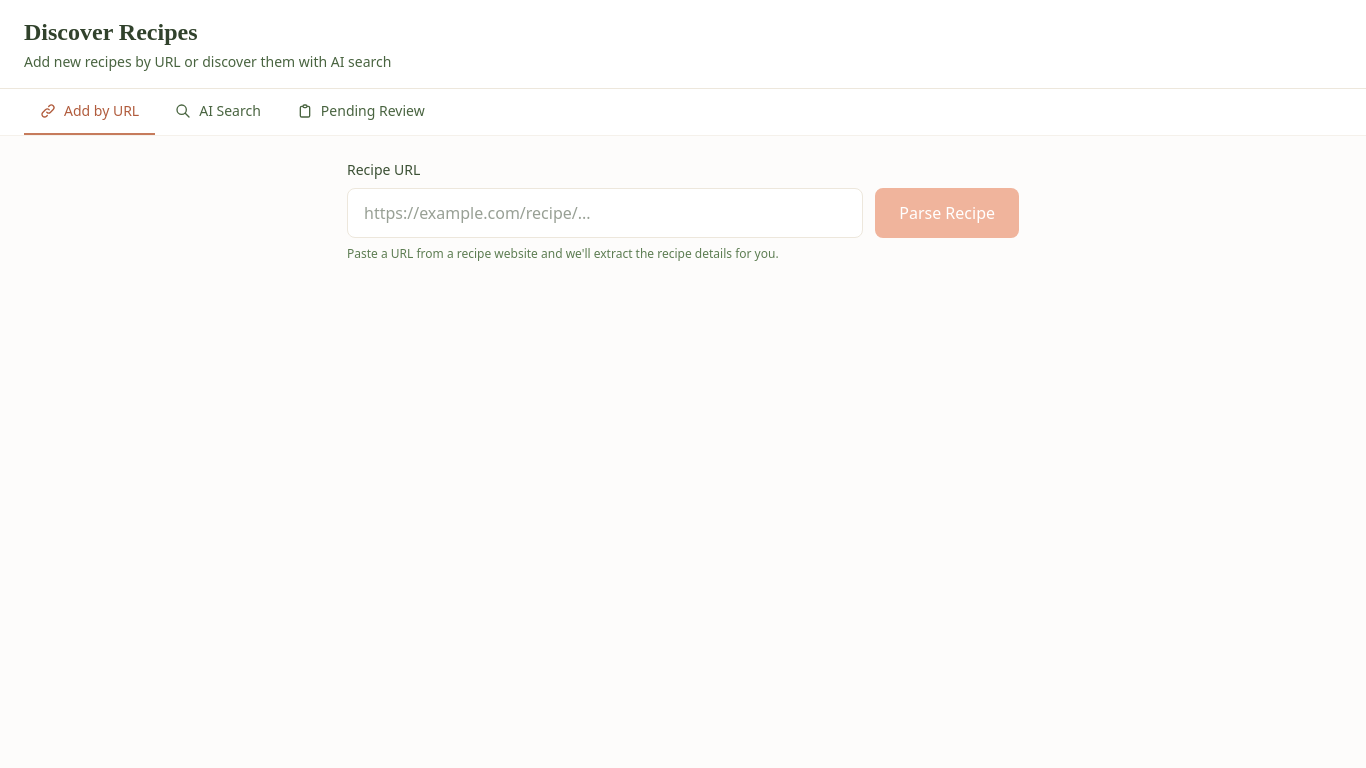
it: DiscoverPage › URL Parser › displays parsed recipe card
This screenshot has width=1366, height=768.
Type "https://example.com/recipe" into the field with placeholder "https://example.com/recipe/...".
click(605, 213); type("https://example.com/recipe")  # box [347,188,863,238]
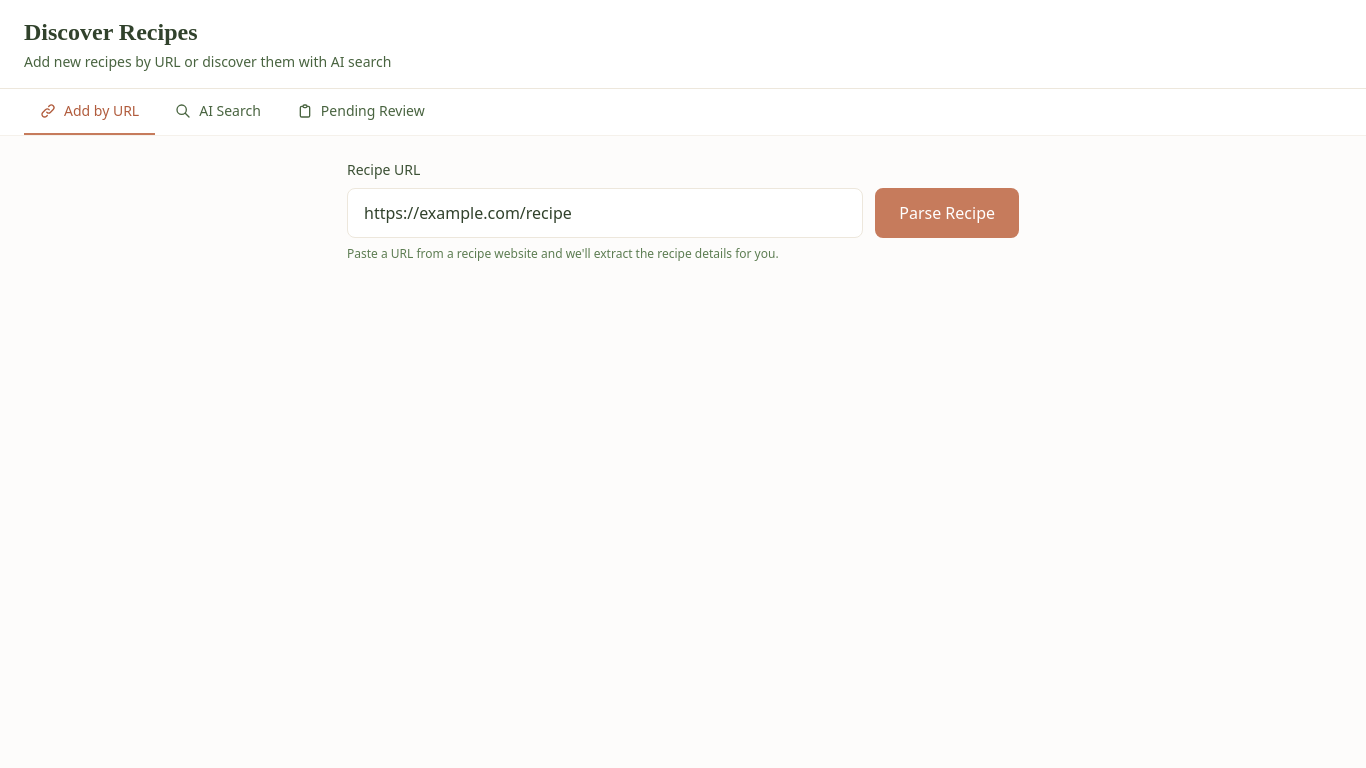
Click the button "Parse Recipe".
click(947, 213)  # box [875,188,1019,238]
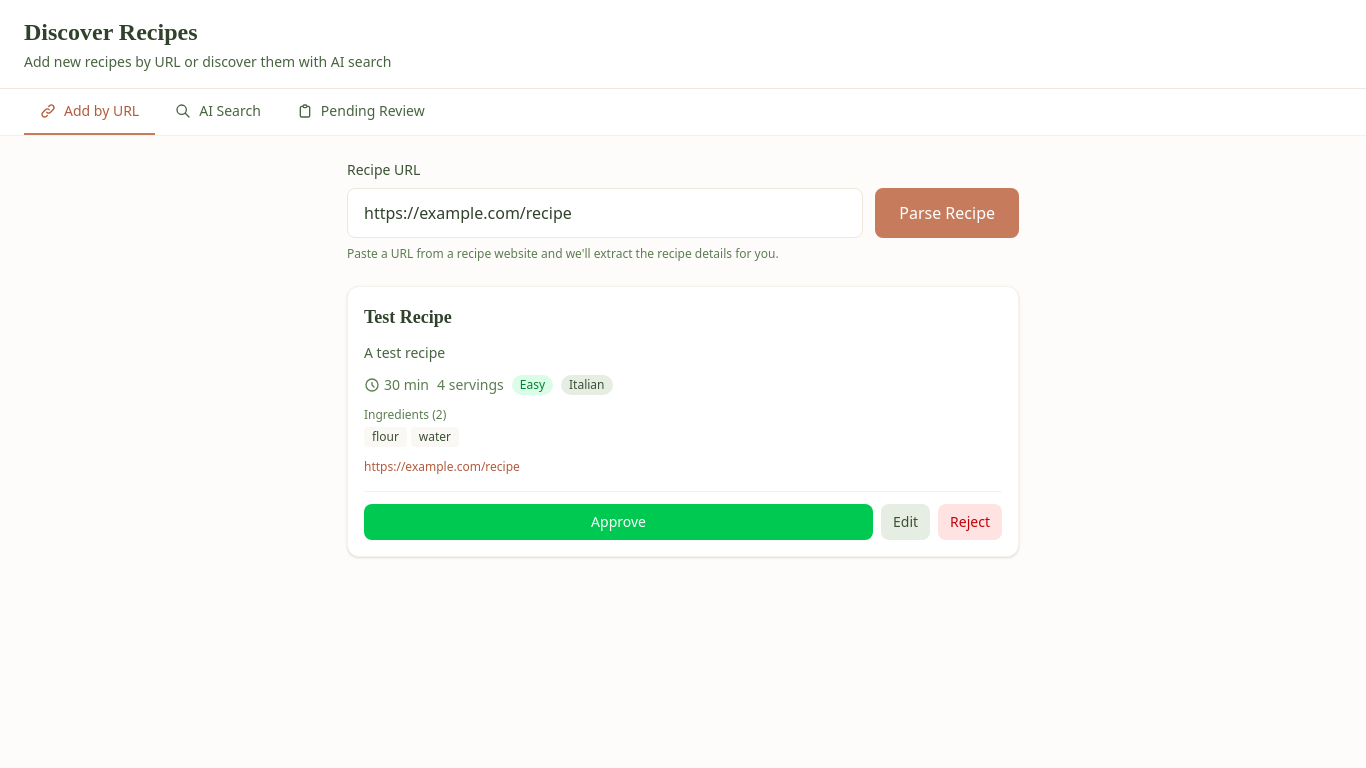
Expected: the heading "Test Recipe" is shown, [364,303,452,331]
